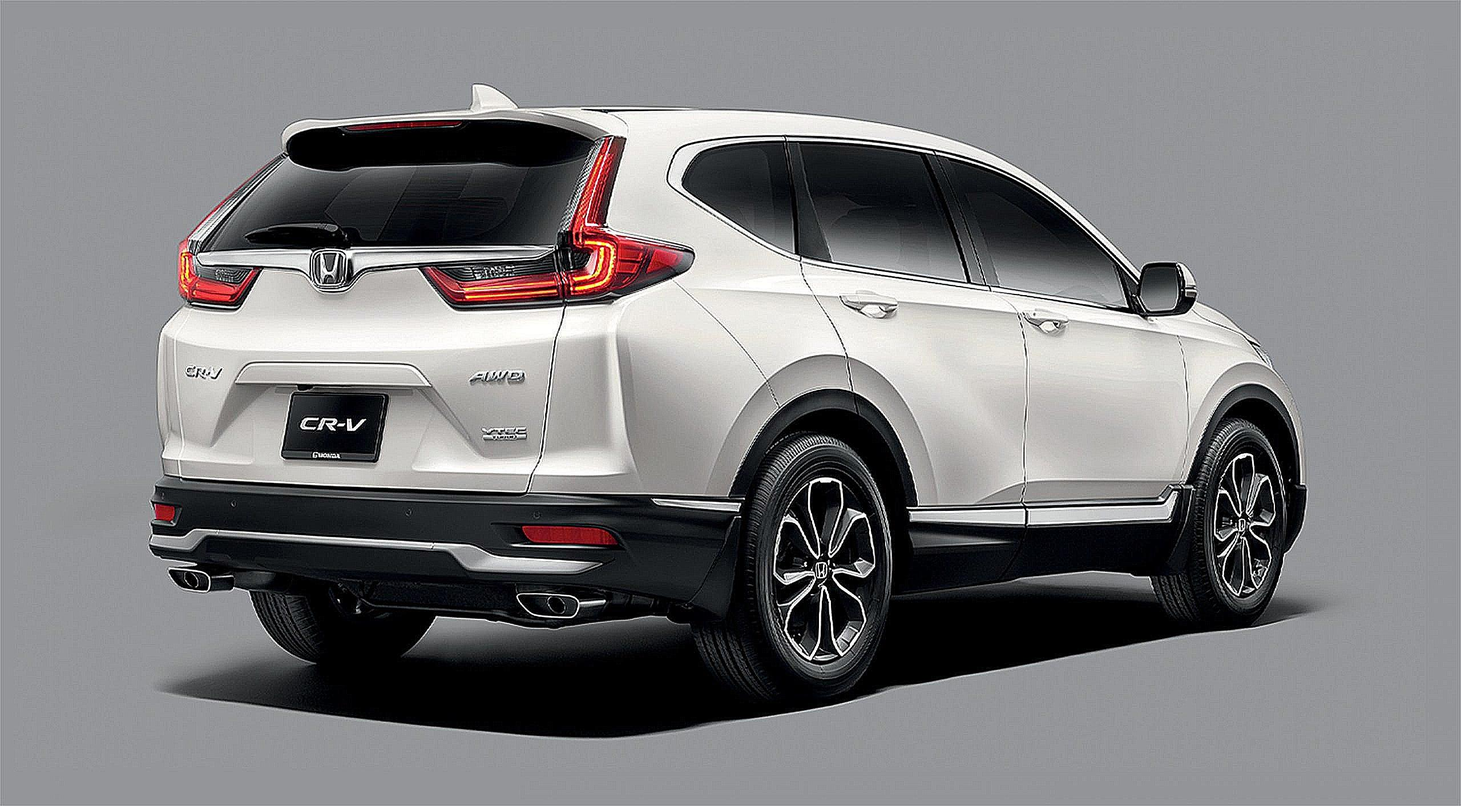Car boot: (152, 94, 598, 503)
Driver-s door - -F-R-: (937, 130, 1197, 526)
Fender - -F-R-: (1170, 262, 1271, 569)
Fender - -R-R-: (512, 222, 847, 512)
Front bumper: (1269, 445, 1328, 579)
Passenger-s door - -R-R-: (790, 120, 1041, 531)
Rear bumper: (133, 469, 750, 647)
Rear light - -L-: (171, 137, 292, 328)
Rear light - -R-: (423, 126, 707, 317)
Side bumper - -R-: (883, 474, 1206, 600)
Side mirror - -R-: (1115, 236, 1209, 334)
